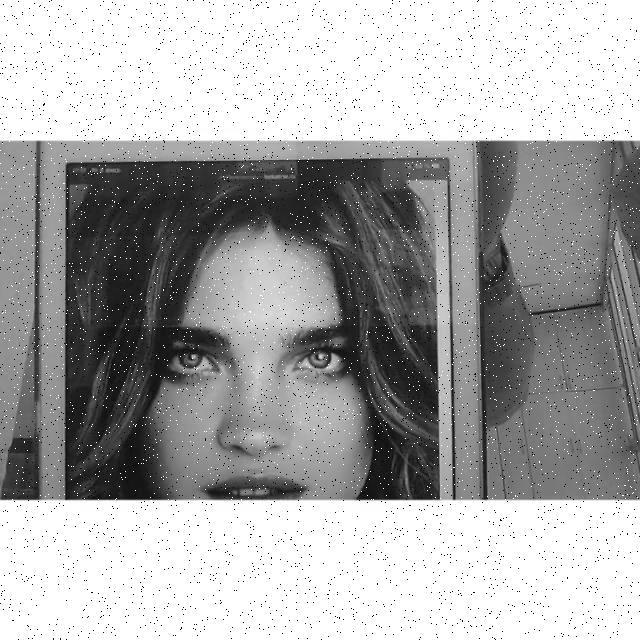fake: (33, 140, 493, 499)
